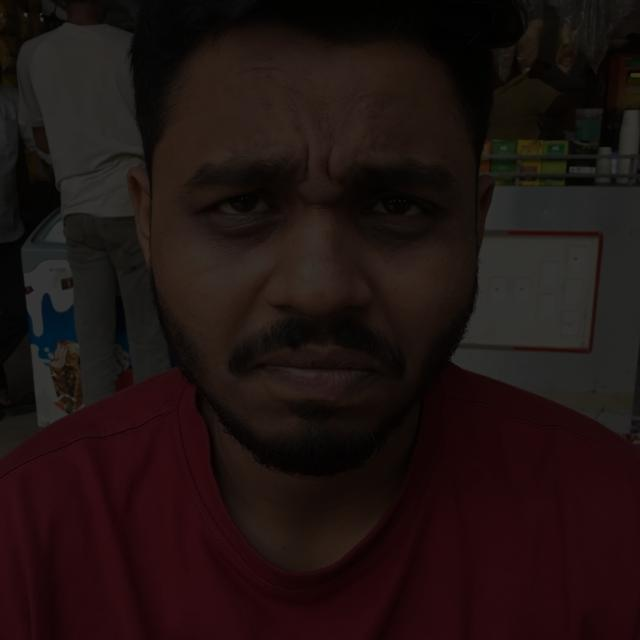Disgust: (106, 53, 533, 483)
